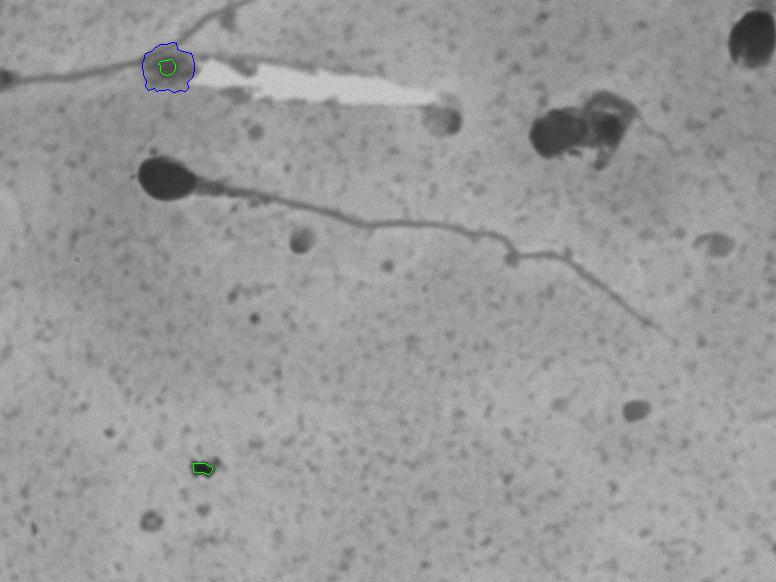Abnormal: (109, 134, 694, 360)
